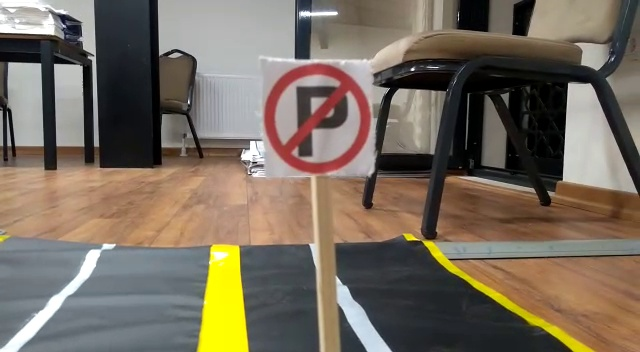park_yapilmaz: (260, 53, 373, 179)
